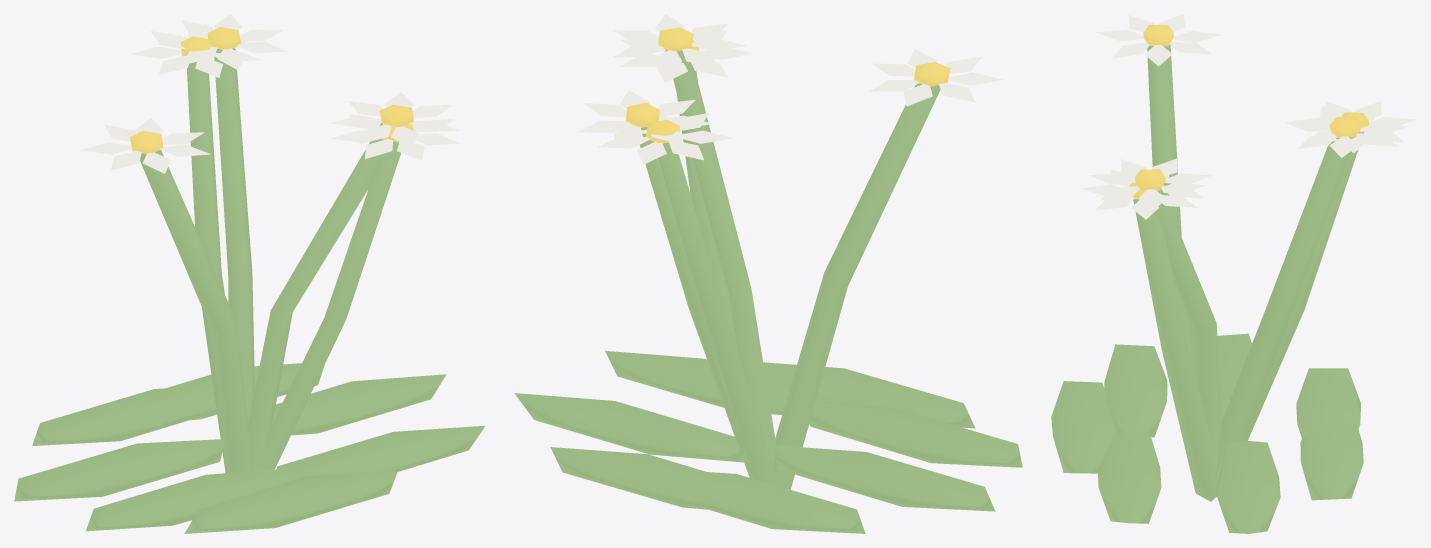
The model's file is Blender_Flower_Aster.glb.
3 views of the same model, side by side, from view 1: azimuth 30°, elevation 25°; view 2: azimuth 150°, elevation 25°; view 3: azimuth 270°, elevation 25° (orthographic). The views are drawn at different scales.
Parts seen in each view (by area): view 1: Blender_Flower_Aster; view 2: Blender_Flower_Aster; view 3: Blender_Flower_Aster.
Part boxes in pixels (x1,y1,x2,y2): Blender_Flower_Aster: (14, 14, 485, 533); Blender_Flower_Aster: (514, 14, 1022, 533); Blender_Flower_Aster: (1051, 14, 1415, 533).
Bounding box in the file's own units: 0.1668 × 0.155 × 0.1243.
